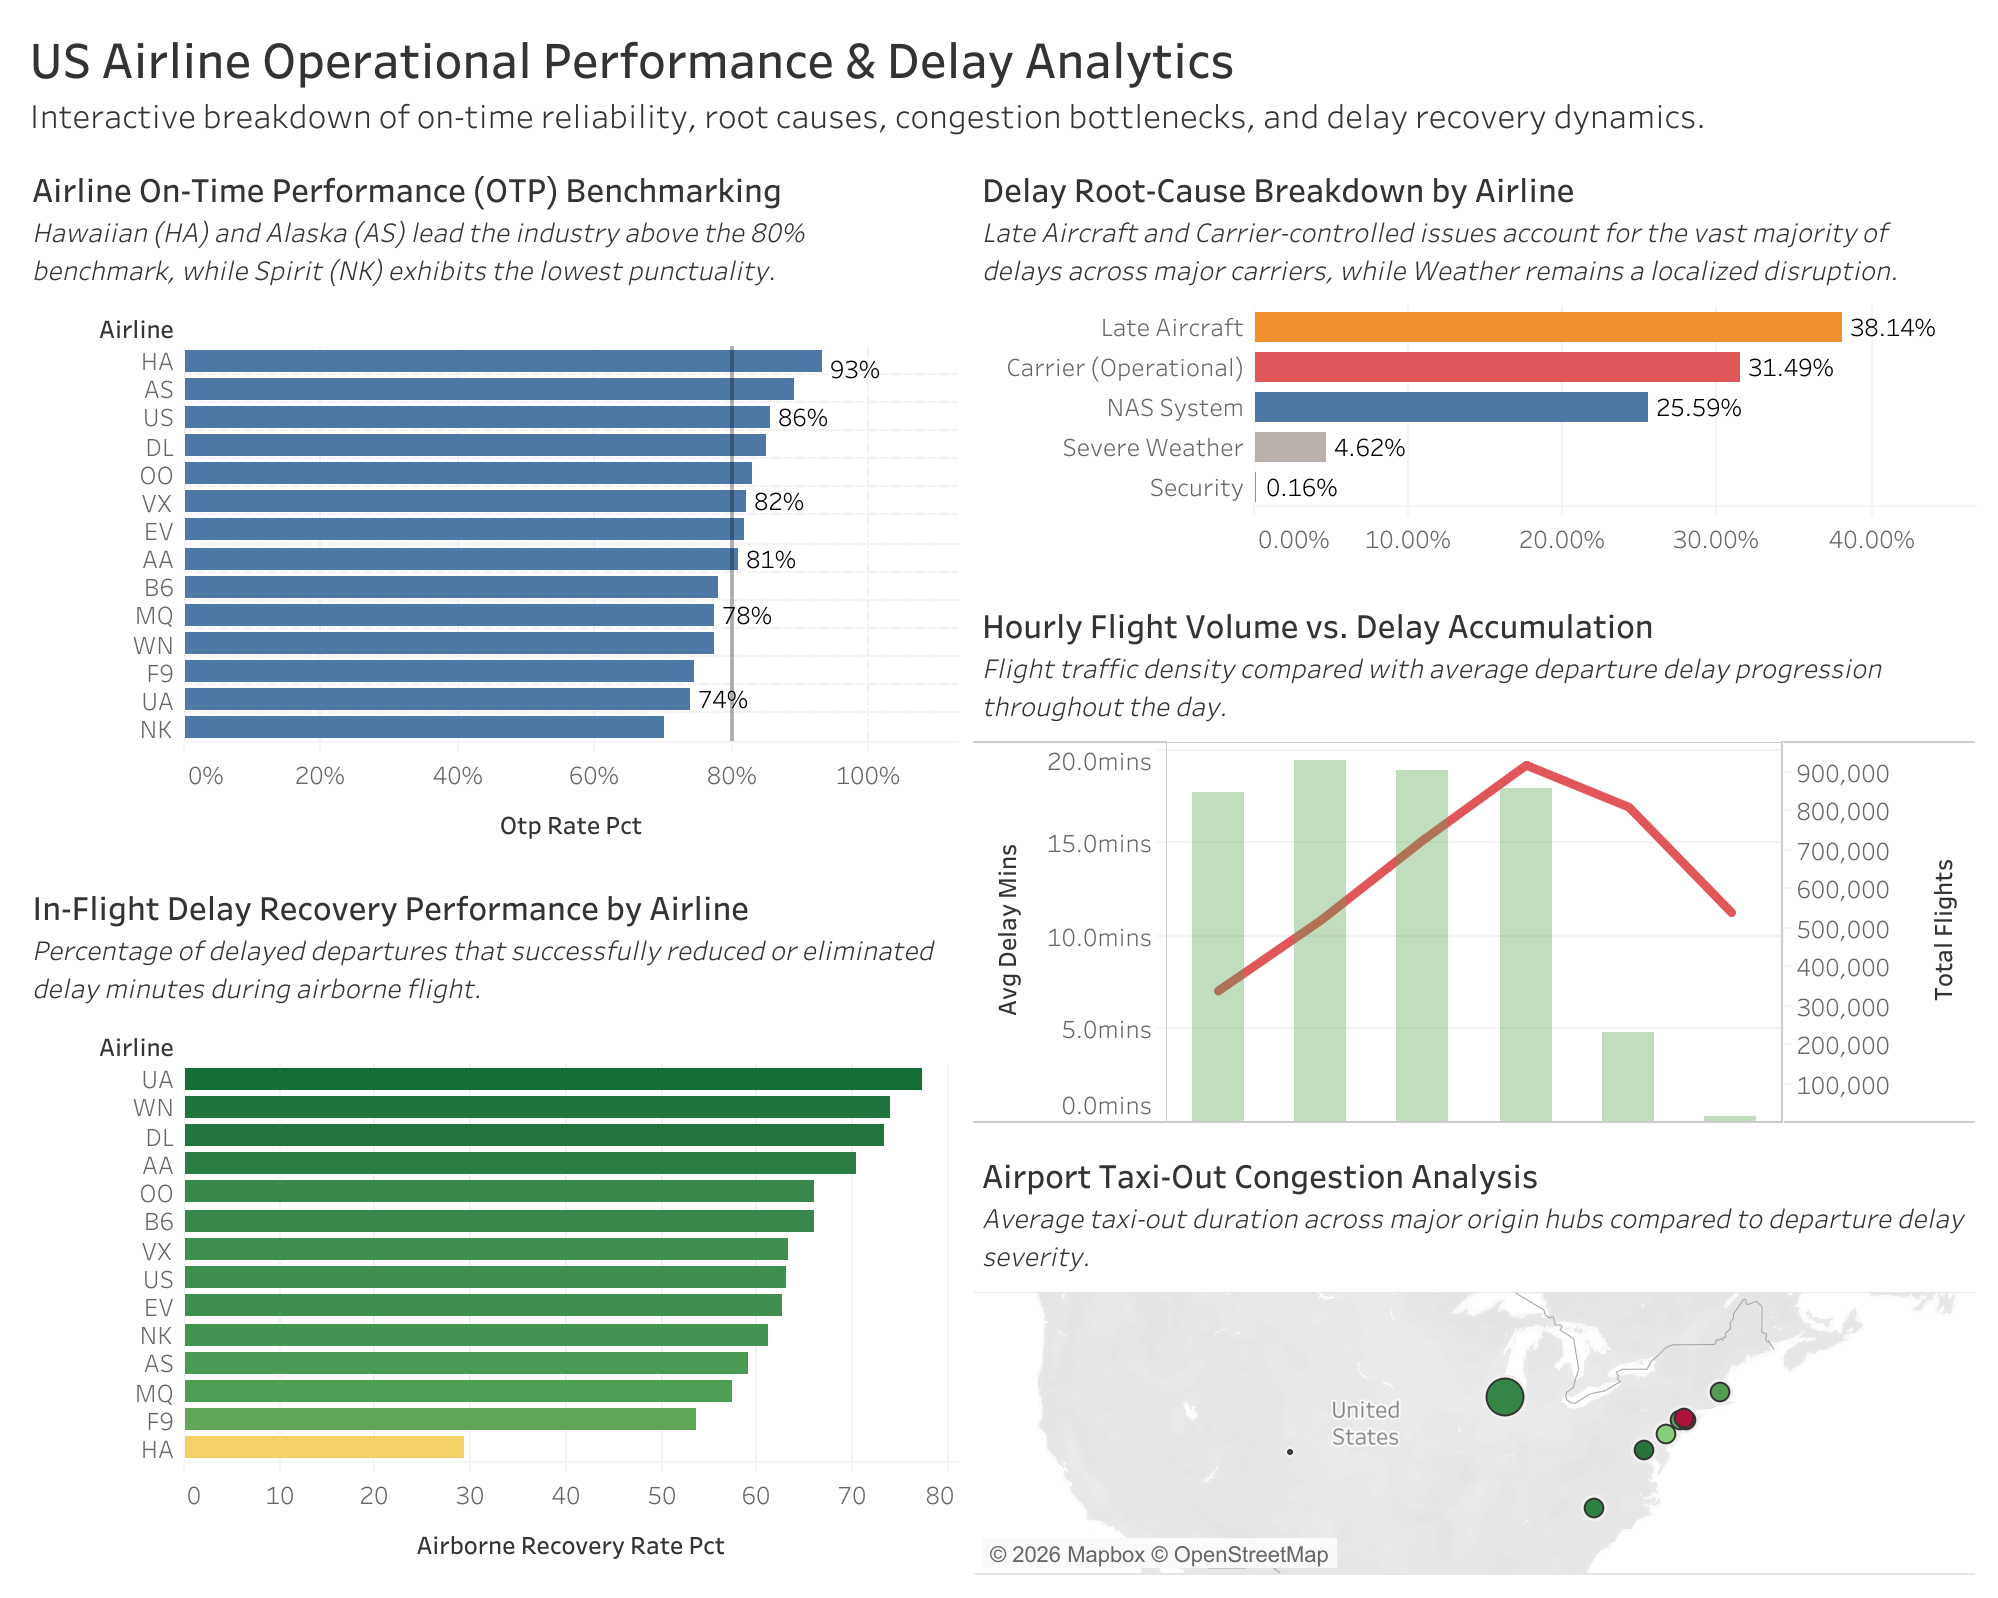

The dashboard page shown, as its layout file describes it:
{"tool":"tableau","page":{"name":"US Airline Operational Performance & Delay Analytics","canvas":[1000,800],"ordinal":0},"visuals":[{"type":"title","box":[8,8,984,65]},{"type":"worksheet","title":"Airline On-Time Performance (OTP) Benchmarking","mark":"Automatic","rows":["airline"],"cols":["otp_rate_pct"],"box":[8,73,475,359.5]},{"type":"worksheet","title":"Delay Root-Cause Breakdown by Airline","mark":"Bar","box":[483,73,509,218.3]},{"type":"worksheet","title":"Hourly Flight Volume vs. Delay Accumulation","mark":"Line","rows":["avg_delay_mins","total_flights"],"cols":["time_window"],"box":[483,291.3,509,275.1]},{"type":"worksheet","title":"In-Flight Delay Recovery Performance by Airline","mark":"Bar","rows":["airline"],"cols":["airborne_recovery_rate_pct"],"box":[8,432.5,475,359.5]},{"type":"worksheet","title":"Airport Taxi-Out Congestion Analysis","mark":"Circle","box":[483,566.4,509,225.6]}]}

Visuals, with their boxes in screenshot pixels (x1, y1, x2, y2), scaled from the page's 1000x800 canvas onto the 1998x1598 screenshot:
title: left=16, top=16, right=1982, bottom=146
"Airline On-Time Performance (OTP) Benchmarking" worksheet: left=16, top=146, right=965, bottom=864
"Delay Root-Cause Breakdown by Airline" worksheet (Bar marks): left=965, top=146, right=1982, bottom=582
"Hourly Flight Volume vs. Delay Accumulation" worksheet (Line marks): left=965, top=582, right=1982, bottom=1131
"In-Flight Delay Recovery Performance by Airline" worksheet (Bar marks): left=16, top=864, right=965, bottom=1582
"Airport Taxi-Out Congestion Analysis" worksheet (Circle marks): left=965, top=1131, right=1982, bottom=1582
